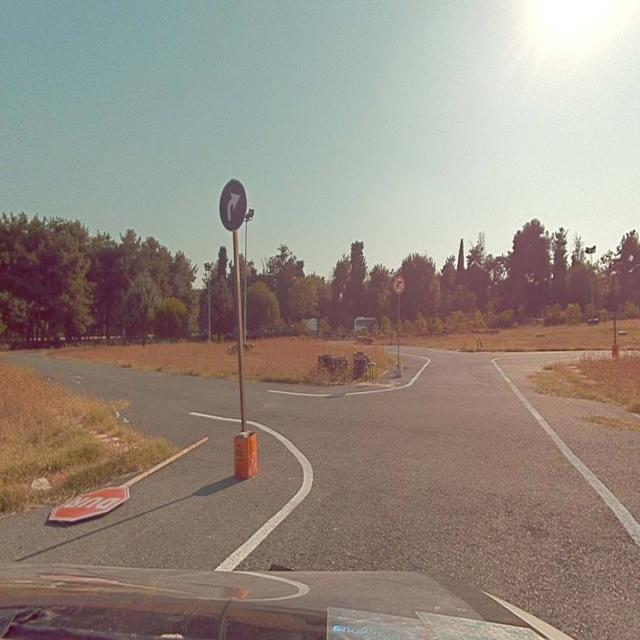sag: (220, 179, 247, 229)
sagadonulmez: (394, 276, 404, 292)
